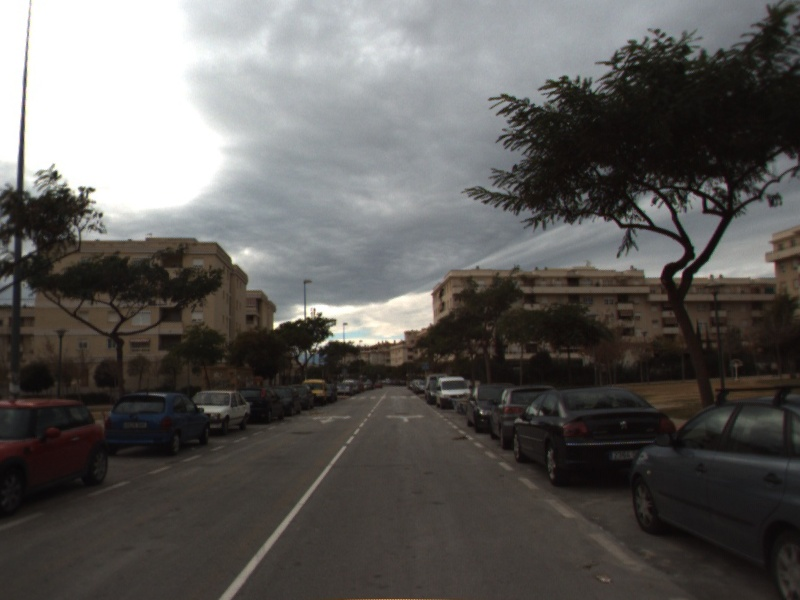LEFT_RIGHT: (383, 412, 427, 424)
